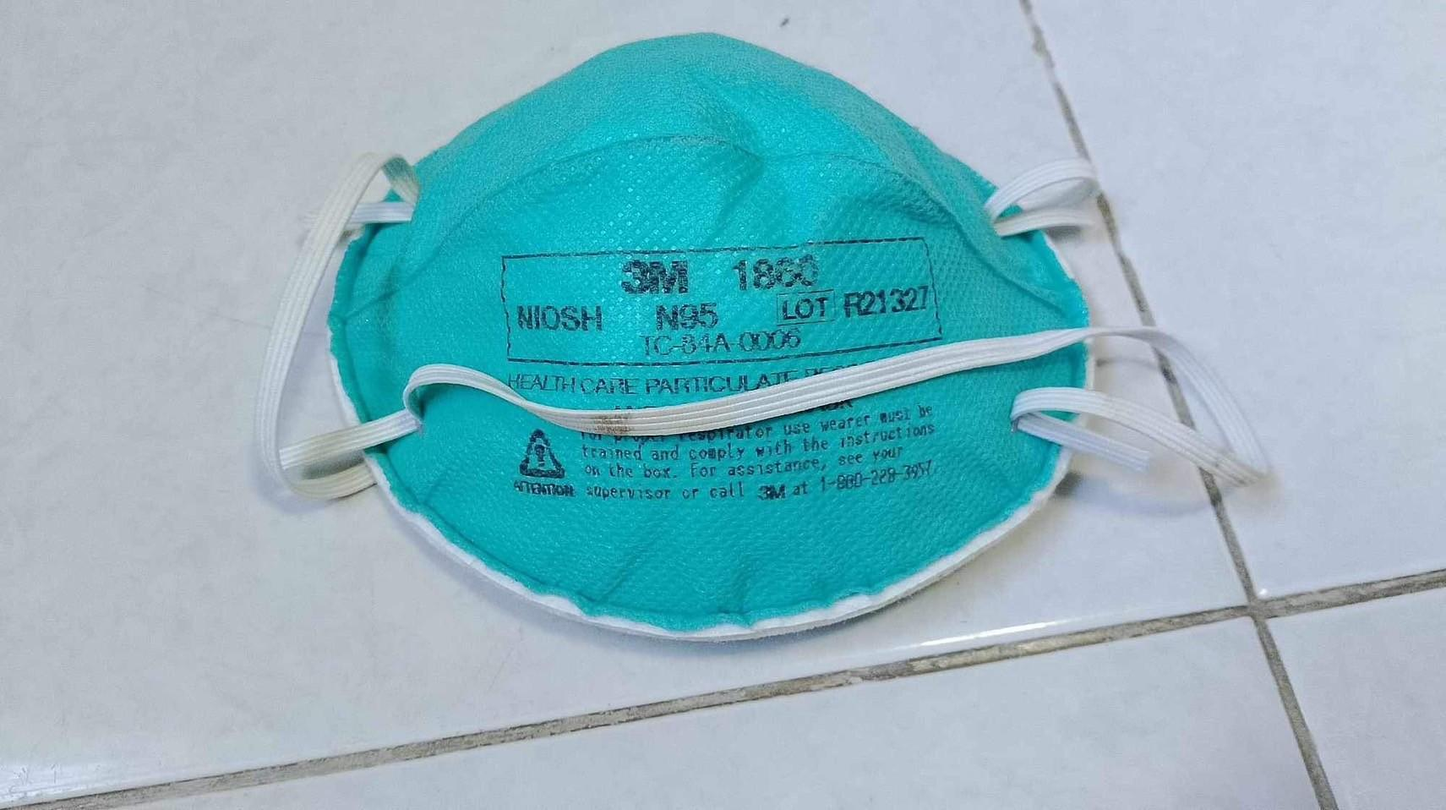General: (253, 30, 1269, 647)
Sharps: (276, 321, 1269, 499)
